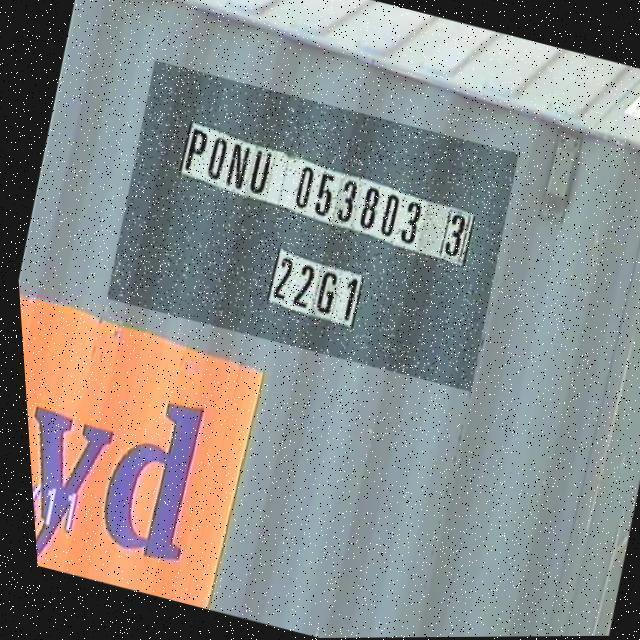container_number_h: (90, 59, 528, 394)
